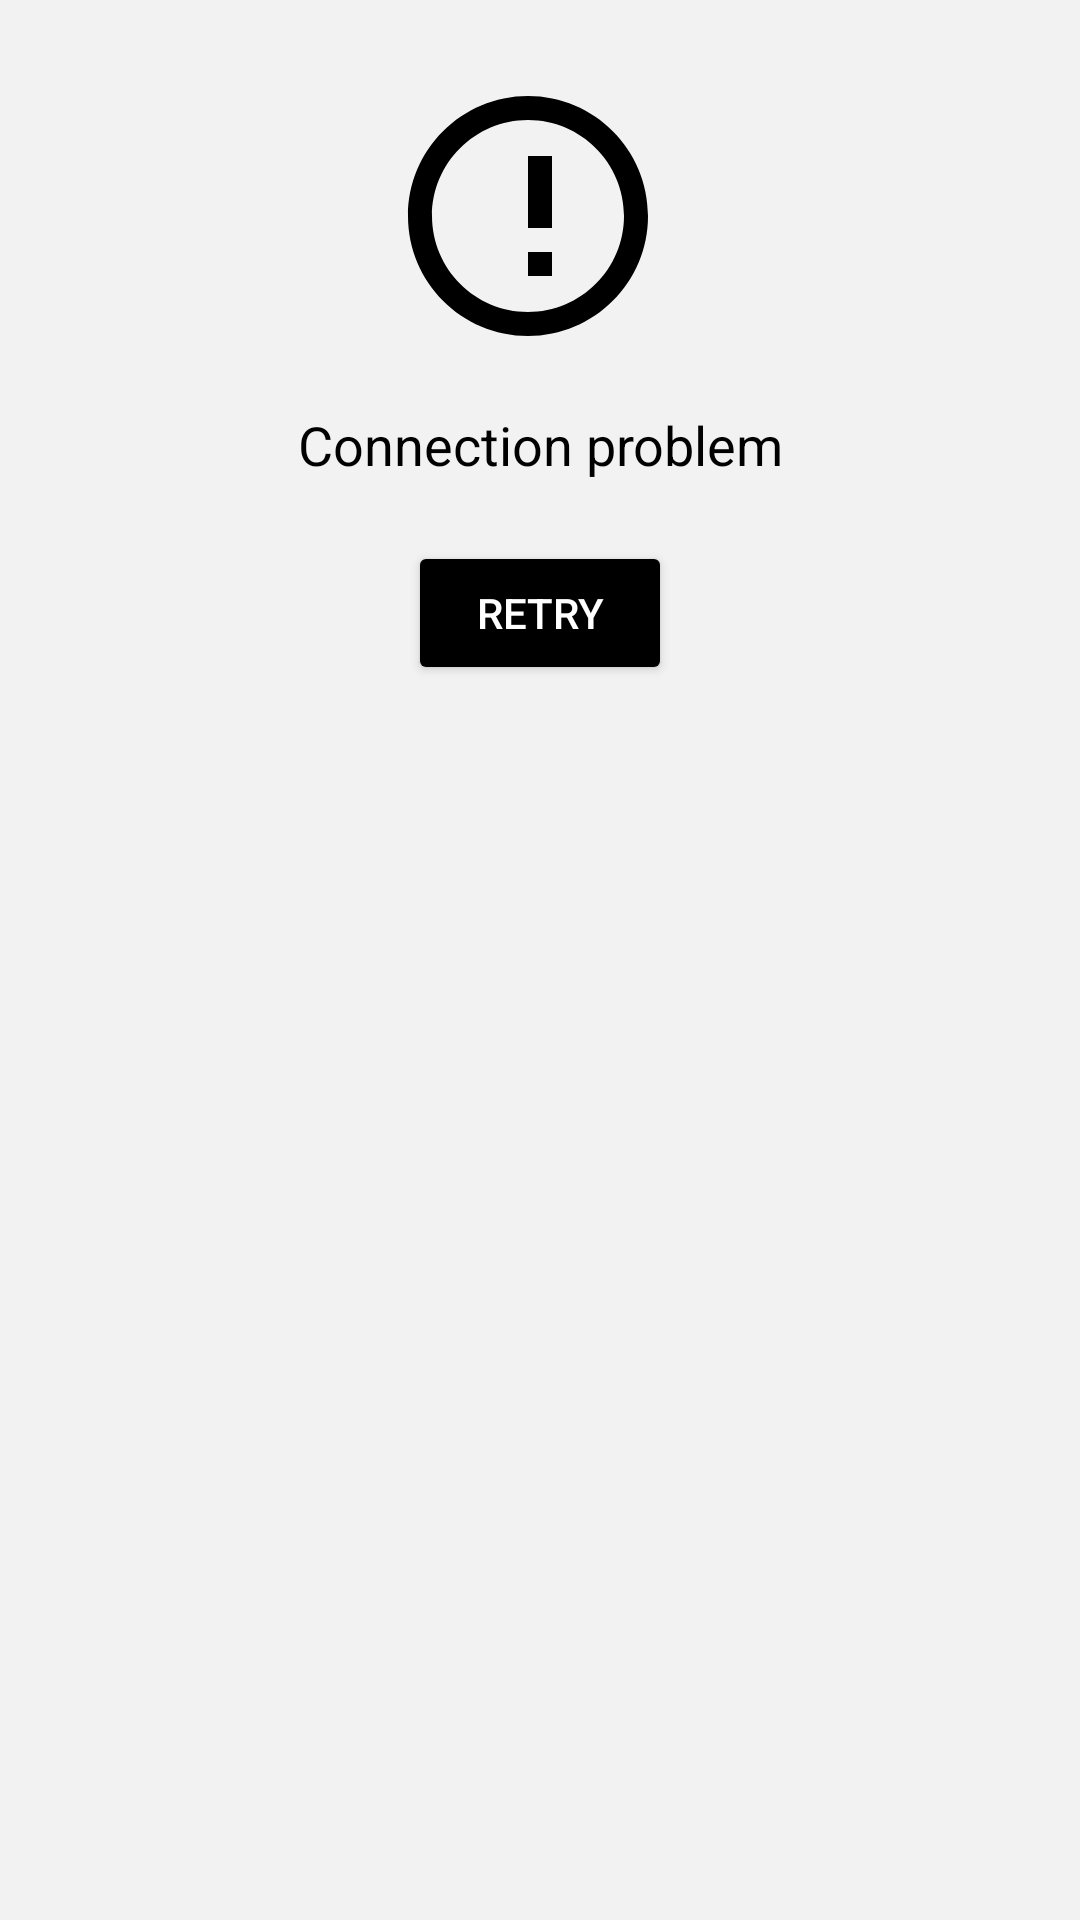

Named icons in this screenshot (1080 × 1920) and their bounding boxes, (x1, y1, x2, y2):
error: (408, 96, 648, 336)
